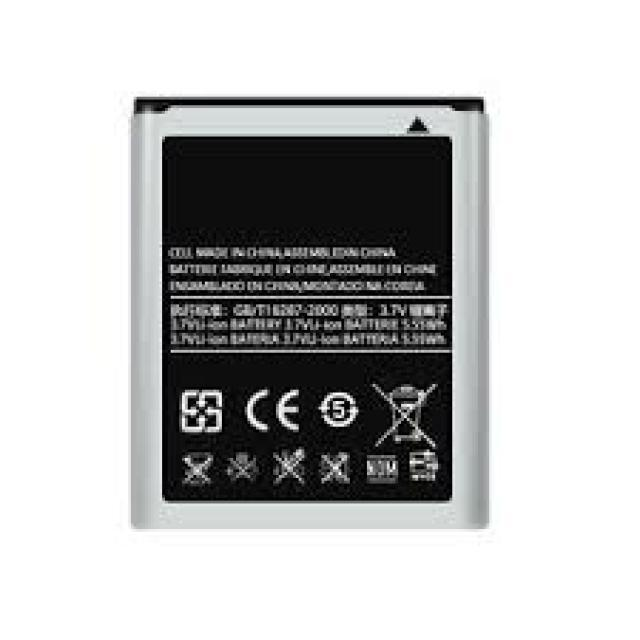Battery: (108, 58, 528, 578)
